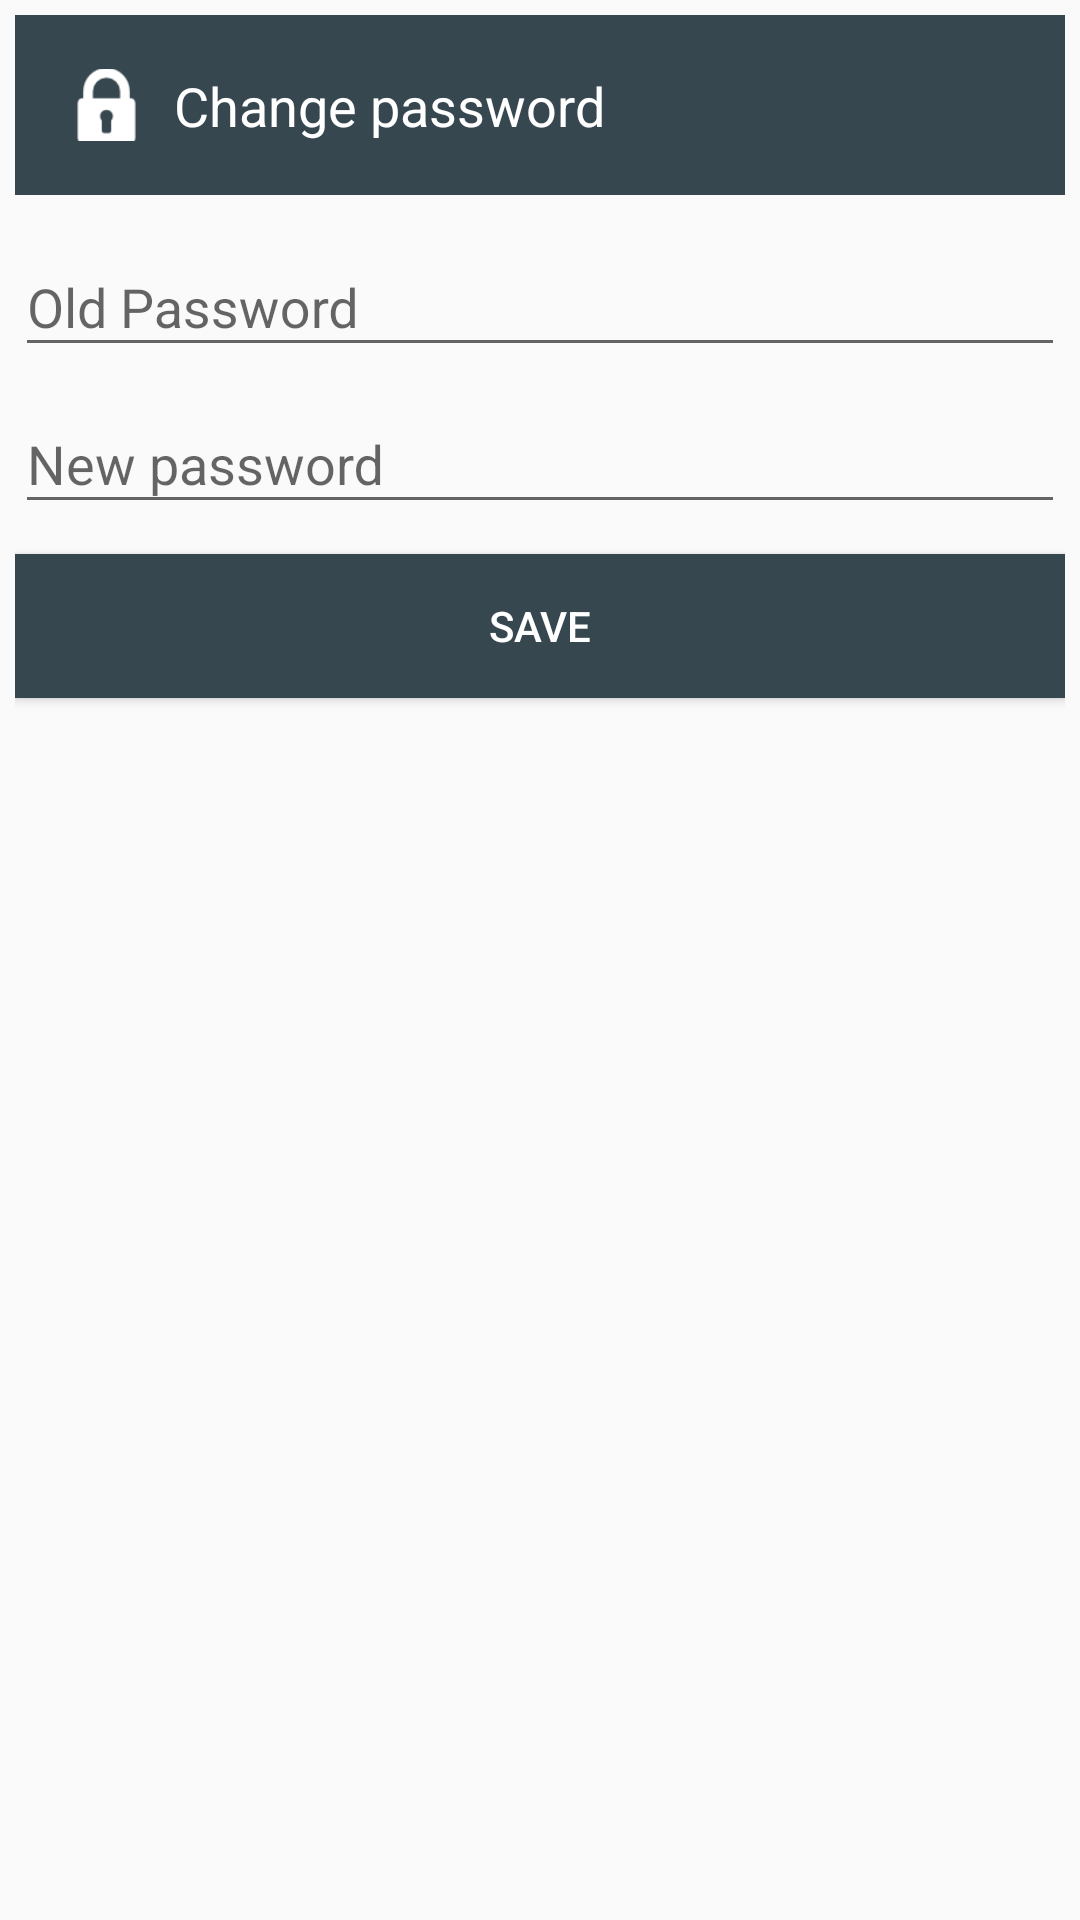

Icon click points for this 1080 x 1920 phone screenshot, format (x,y):
lock: (106,105)
